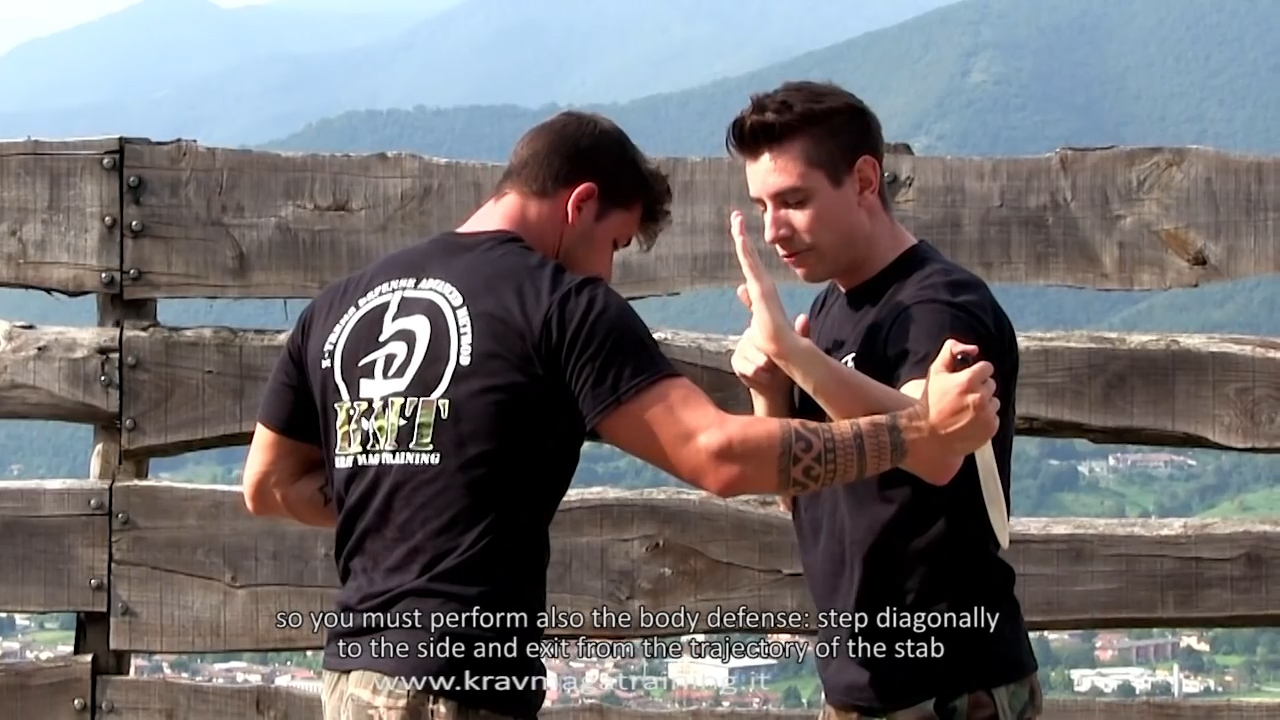knife: (926, 337, 1021, 554)
